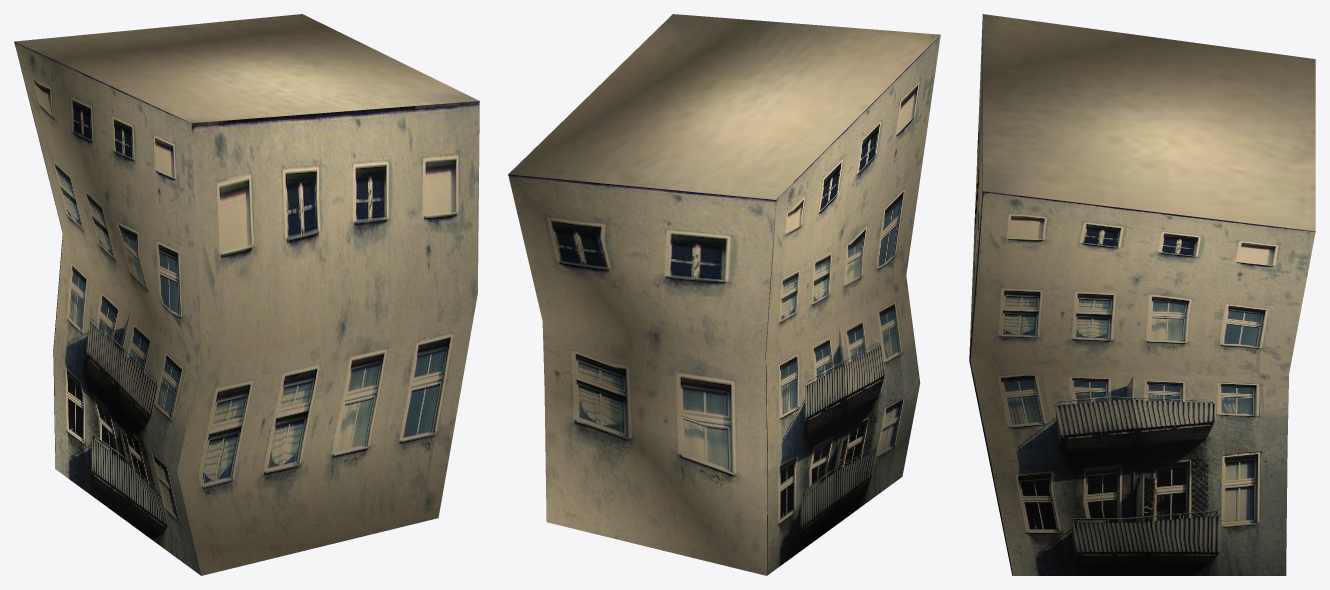
Rendered from apartments_three.fbx.
3 views of the same model, side by side, from view 1: azimuth 30°, elevation 25°; view 2: azimuth 150°, elevation 25°; view 3: azimuth 270°, elevation 25° (orthographic). The views are drawn at different scales.
Parts seen in each view (by area): view 1: Apartment2; view 2: Apartment2; view 3: Apartment2.
Boxes of the visible parts, left/top/right/bottom form: Apartment2: left=14, top=14, right=479, bottom=575; Apartment2: left=508, top=14, right=940, bottom=575; Apartment2: left=969, top=14, right=1315, bottom=575.
Size of the model in its own units: 1186 by 1849 by 1314.
Materials: 1 (1 with a texture image).
